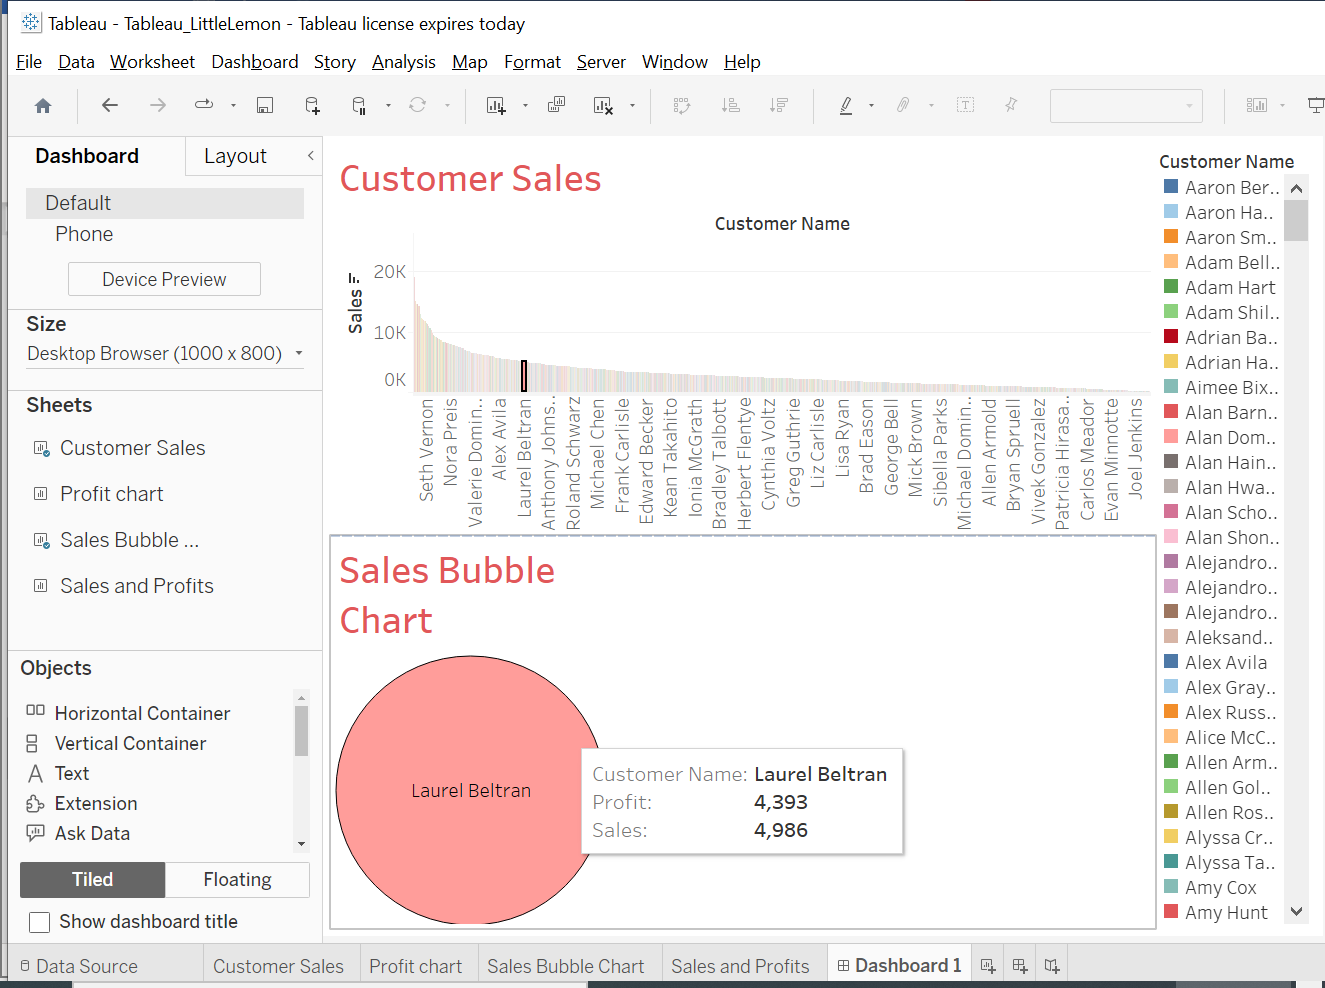

What the dashboard file says about the page in this screenshot:
{"tool":"tableau","page":{"name":"Dashboard 1","canvas":[1000,800],"ordinal":0},"visuals":[{"type":"worksheet","title":"Customer Sales","mark":"Automatic","rows":["Sales"],"cols":["Customer Name"],"box":[8,8,824,392]},{"type":"legend","title":"Customer Sales","param":"[federated.0di2dsm0f2vgox1ajntlx113mt7i].[none:Customer Name:nk]","box":[832,8,160,784]},{"type":"worksheet","title":"Sales Bubble Chart","mark":"Circle","box":[8,400,824,392]}]}

Visuals, with their boxes on the page's 1000x800 design canvas (x1, y1, x2, y2). These are canvas units, not pixel positions in the 1325x988 screenshot, which may show the page scaled, cropped or inside an application window:
"Customer Sales" worksheet: 8:8:832:400
"Customer Sales" legend: 832:8:992:792
"Sales Bubble Chart" worksheet (Circle marks): 8:400:832:792
